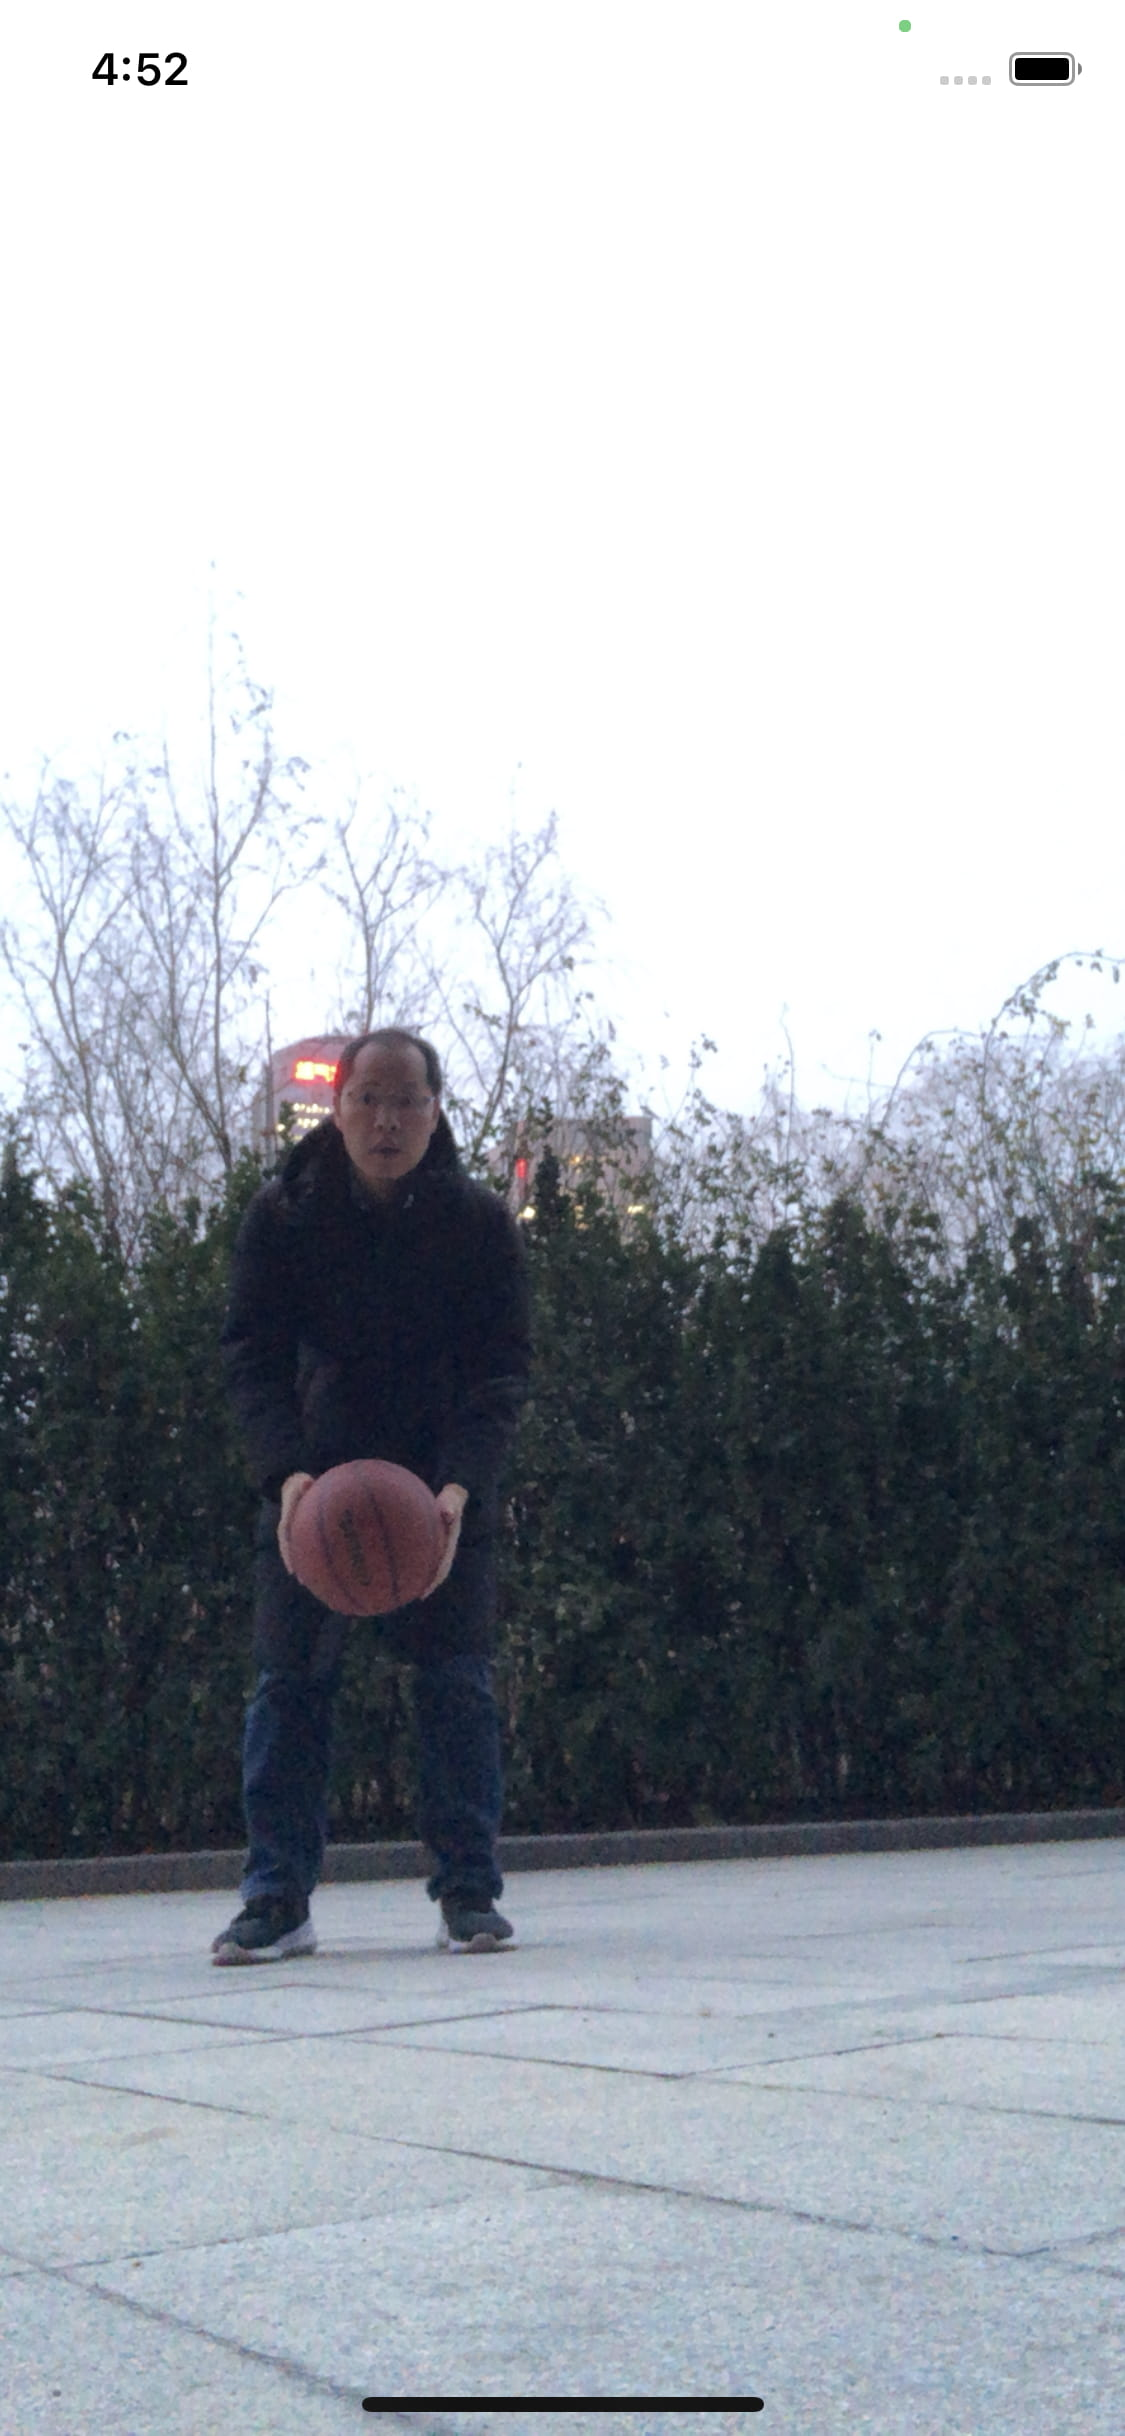ball: (284, 1454, 451, 1616)
